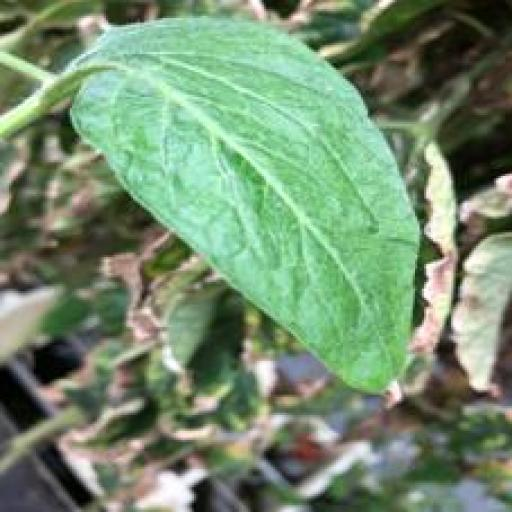Healthy: (39, 12, 426, 402)
